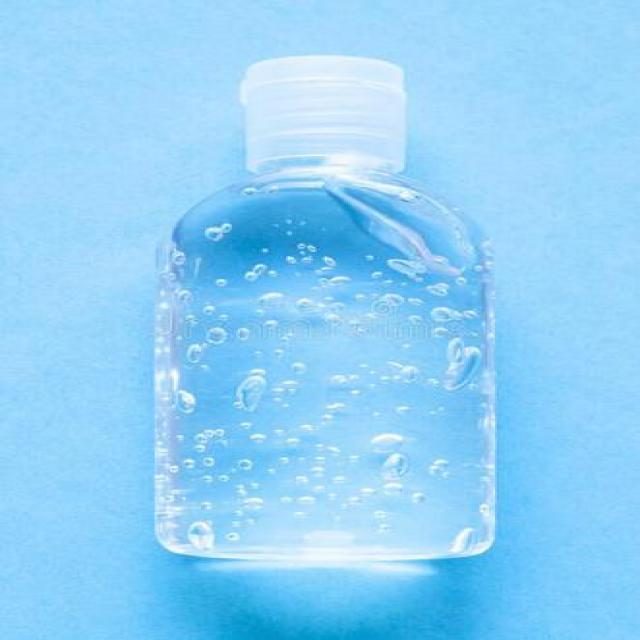sanitizer: (145, 42, 499, 558)
